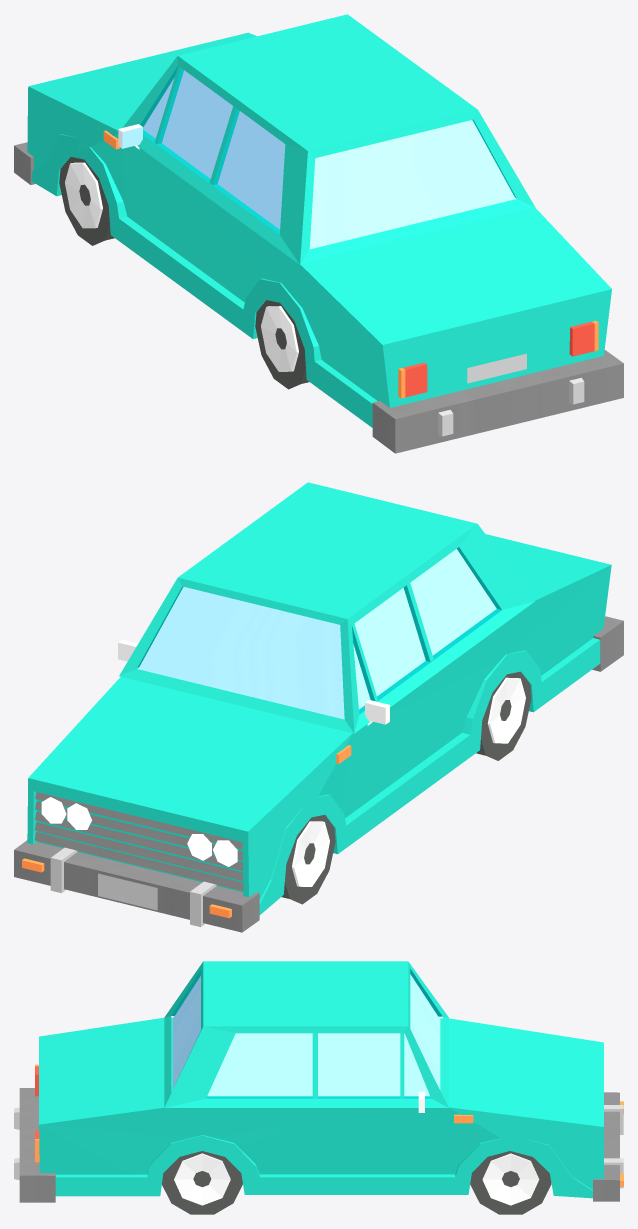
The model's file is transport_cool.005.glb.
3 views of the same model, one above another, from view 1: azimuth 30°, elevation 25°; view 2: azimuth 150°, elevation 25°; view 3: azimuth 270°, elevation 25° (orthographic). The views are drawn at different scales.
Parts seen in each view (by area): view 1: transport_cool.005(Clone); view 2: transport_cool.005(Clone); view 3: transport_cool.005(Clone).
Part boxes in pixels (<box>): transport_cool.005(Clone): <box>14,14,623,453</box>; transport_cool.005(Clone): <box>14,482,623,932</box>; transport_cool.005(Clone): <box>14,961,623,1214</box>.
Size of the model in its own units: 1.48 by 1.19 by 3.7.
Materials: 1 (1 with a texture image).
